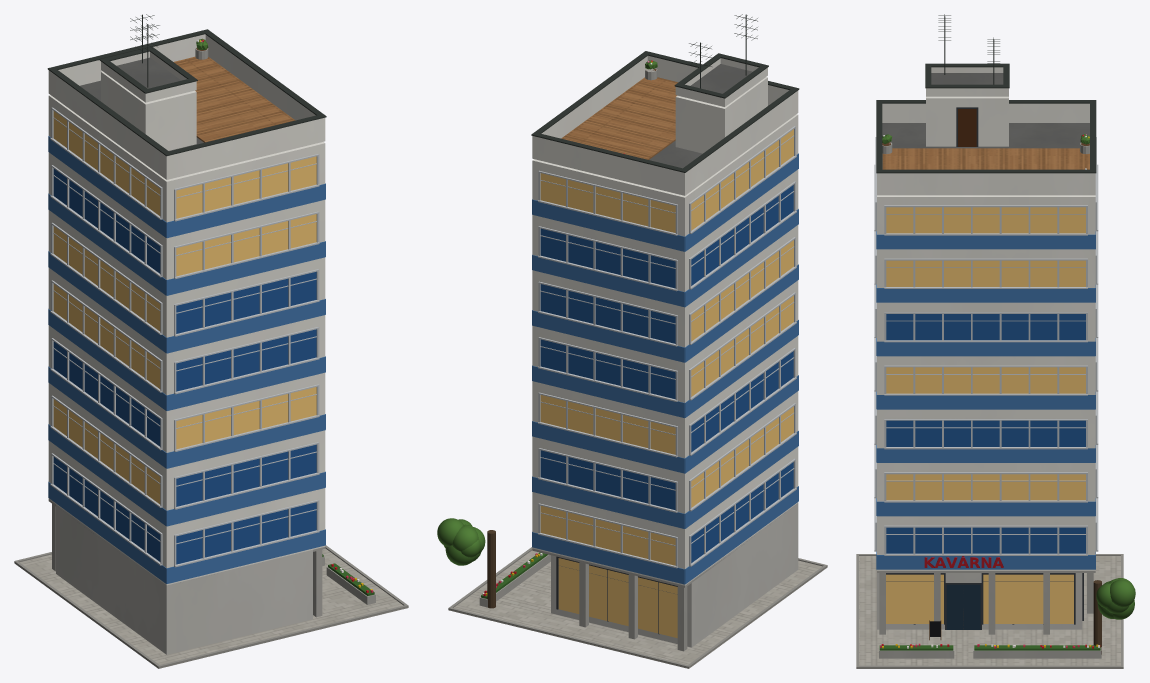
The model's file is dum_00_vysoky_0.glb.
3 renders of one model, left to right at view 1: azimuth 30°, elevation 25°; view 2: azimuth 150°, elevation 25°; view 3: azimuth 270°, elevation 25°, orthographic. The views are drawn at different scales.
Visible parts, largest first — view 1: dum, noc; view 2: dum, noc; view 3: dum, noc.
Part boxes in pixels (x1,y1,x2,y2): dum: (14,14,408,668); noc: (53,111,316,504); dum: (437,14,827,668); noc: (540,129,793,638); dum: (856,14,1135,668); noc: (886,207,1085,623).
Bounding box in the file's own units: 14.65 × 32.22 × 14.67.
1 material, 1 textured.
